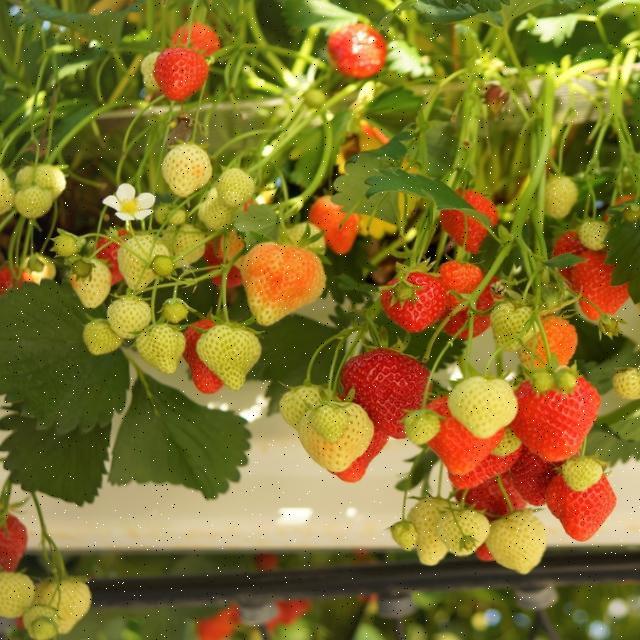Ripe Strawberry: (336, 328, 427, 440), (512, 365, 606, 454), (568, 242, 636, 327), (555, 471, 623, 547), (428, 402, 488, 476), (436, 181, 496, 251), (327, 20, 393, 82), (183, 319, 232, 402), (378, 270, 445, 327), (153, 46, 210, 105), (0, 508, 38, 582), (460, 484, 527, 516), (96, 230, 127, 289), (205, 245, 236, 290), (449, 310, 492, 342), (454, 260, 489, 295), (543, 226, 580, 259), (197, 611, 238, 637), (4, 262, 34, 293)
